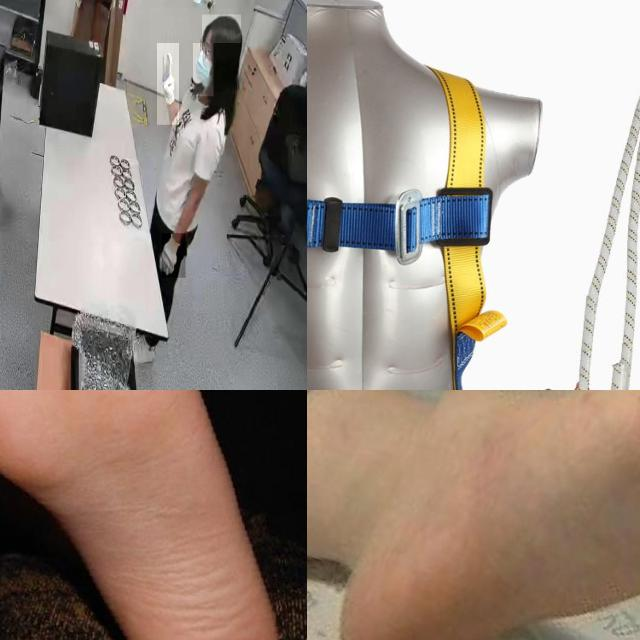Barefoots: (307, 390, 640, 640), (0, 390, 292, 640)
Harness: (307, 57, 498, 390)
face_mask: (193, 43, 213, 96)
hand_glove: (157, 43, 179, 125), (162, 233, 186, 279)
head_nohelmet: (202, 14, 242, 44)
person: (148, 8, 248, 312)
shoes: (130, 328, 158, 369)
